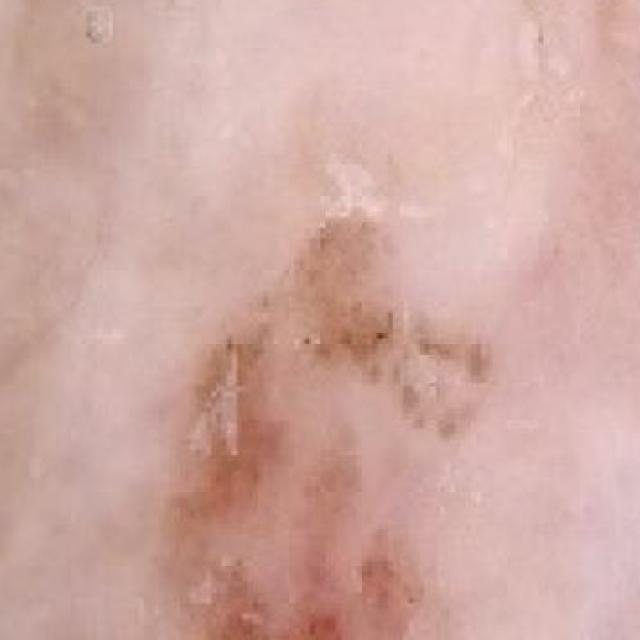AKIEC: (83, 118, 546, 640)
